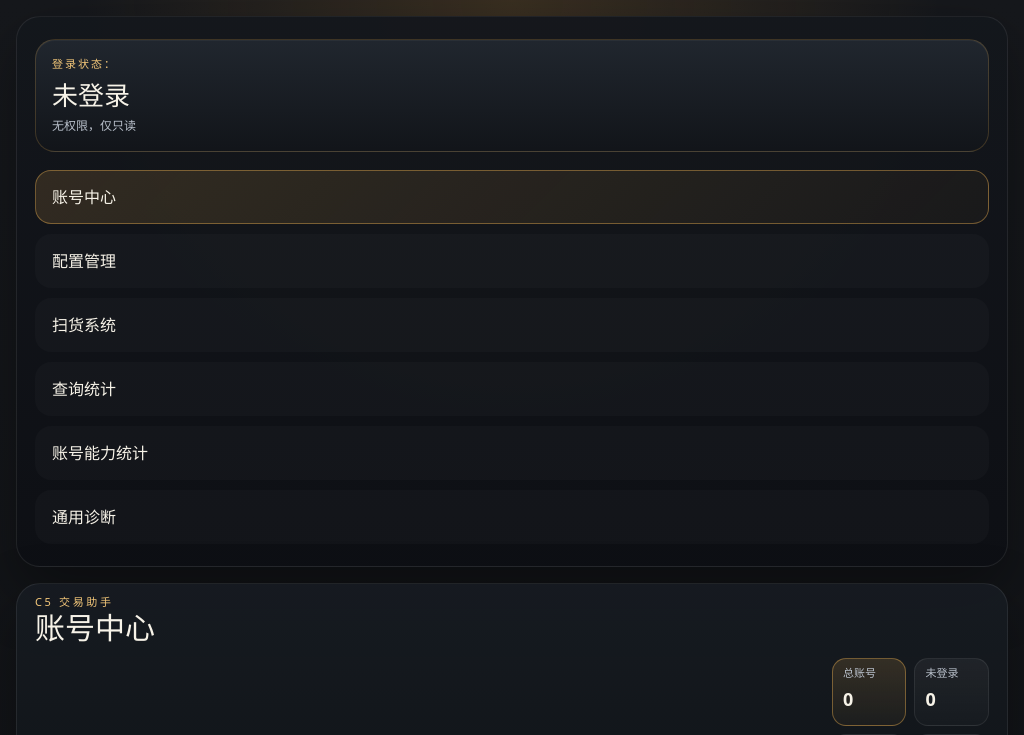
it: app remote bootstrap › does not fall back to the legacy one-screen registration UI when registration_flow_version is not 3
This screenshot has width=1024, height=735.
Click the button with aria-label "打开程序账号窗口".
click(84, 64)  # box [36, 40, 988, 151]
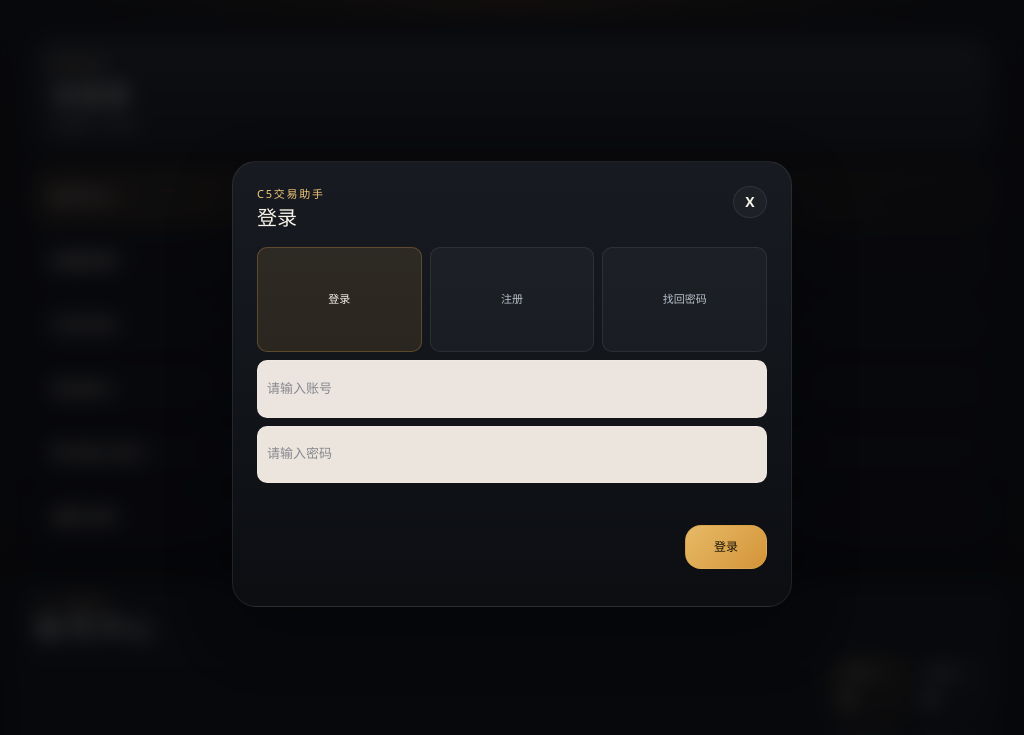
Click the button "注册".
click(512, 299)  # box [430, 246, 594, 352]
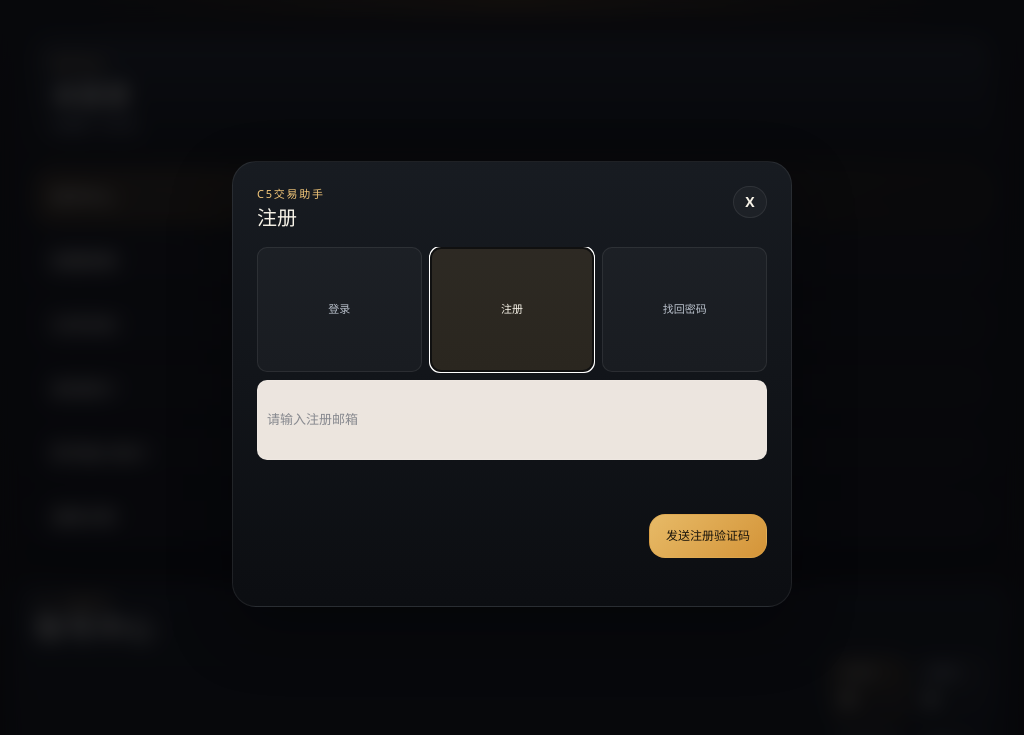
Result: the field labelled "注册邮箱" is shown at [257, 380, 767, 460]
